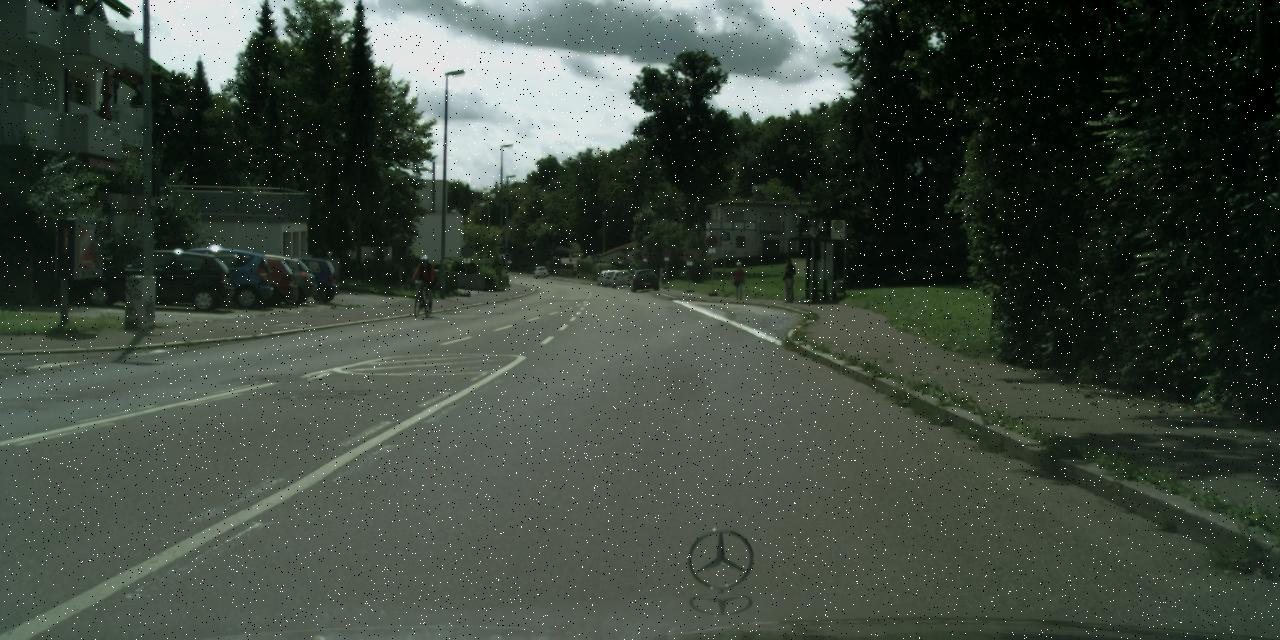ped: (414, 254, 434, 305), (779, 257, 798, 302), (731, 262, 746, 300)
